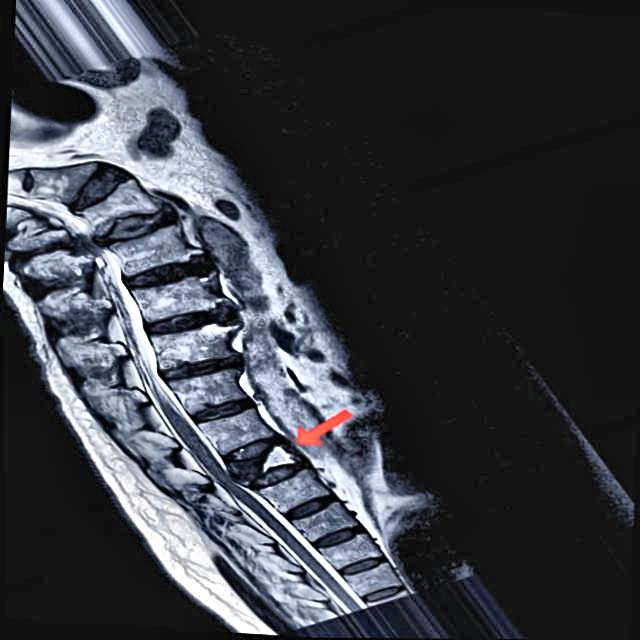Comminuted: (208, 426, 314, 510)
